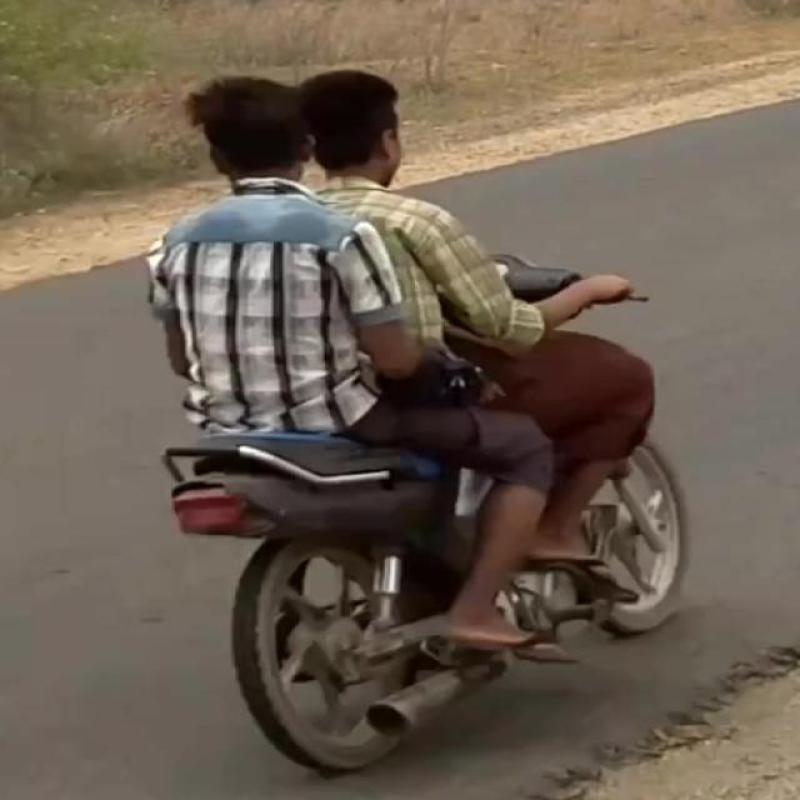nohelmet: (322, 62, 450, 202), (170, 60, 312, 186)
